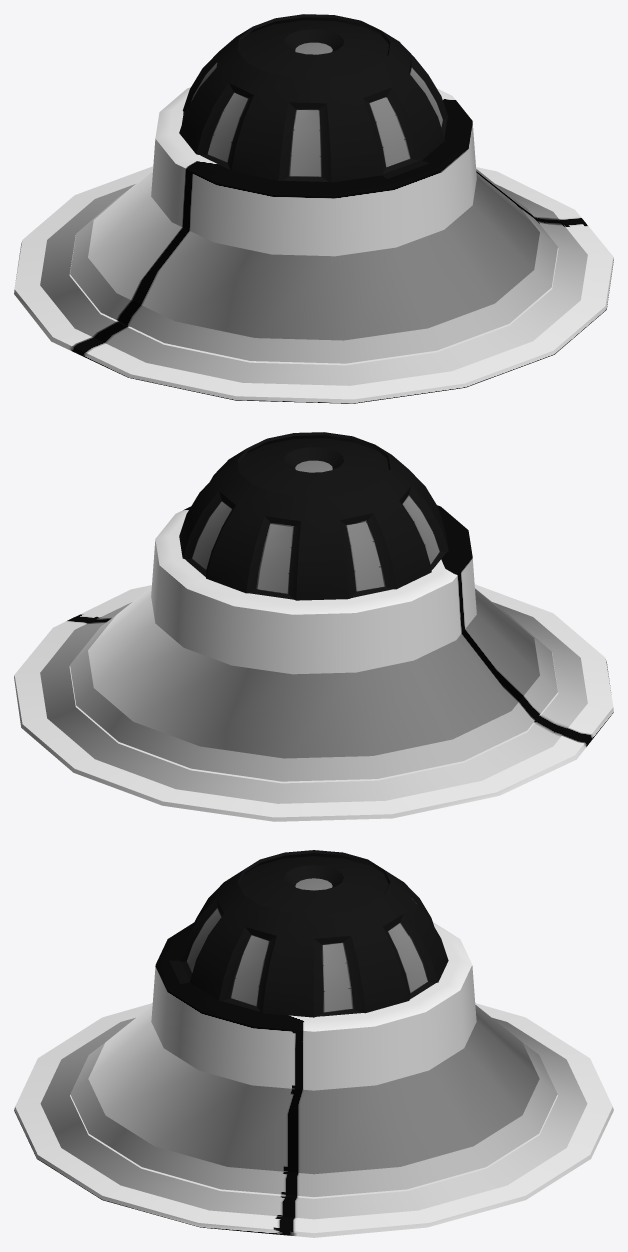
File: lazzor.fbx
3 renders of one model, top to bottom at view 1: azimuth 30°, elevation 25°; view 2: azimuth 150°, elevation 25°; view 3: azimuth 270°, elevation 25°, orthographic.
Parts seen in each view (by area): view 1: pCylinder1, pSphere1; view 2: pCylinder1, pSphere1; view 3: pCylinder1, pSphere1.
Part boxes in pixels (x1,y1,x2,y2): pCylinder1: (14, 87, 613, 403); pSphere1: (179, 14, 448, 182); pCylinder1: (14, 505, 613, 821); pSphere1: (179, 432, 448, 600); pCylinder1: (14, 922, 613, 1237); pSphere1: (179, 850, 448, 1017).
Size of the model in its own units: 21.83 by 9.35 by 21.8.
2 materials, 2 textured.
